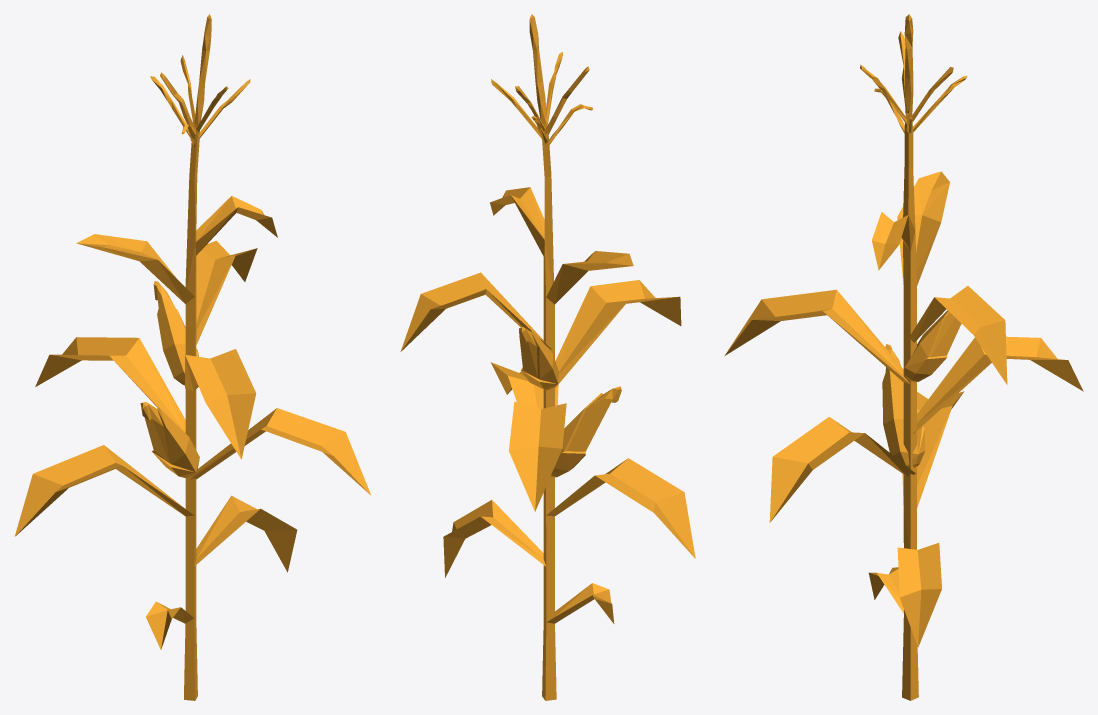
The model's file is SM_Corn_Ripe_Sweetcorn_A.fbx.
3 views of the same model, side by side, from view 1: azimuth 30°, elevation 25°; view 2: azimuth 150°, elevation 25°; view 3: azimuth 270°, elevation 25° (orthographic).
Parts seen in each view (by area): view 1: corn-ripe-sweetcorn-a; view 2: corn-ripe-sweetcorn-a; view 3: corn-ripe-sweetcorn-a.
Boxes of the visible parts, x1,y1,x2,y2 form: corn-ripe-sweetcorn-a: (14, 14, 371, 700); corn-ripe-sweetcorn-a: (400, 14, 695, 700); corn-ripe-sweetcorn-a: (724, 14, 1083, 700).
Size of the model in its own units: 0.939 by 2.23 by 1.05.
